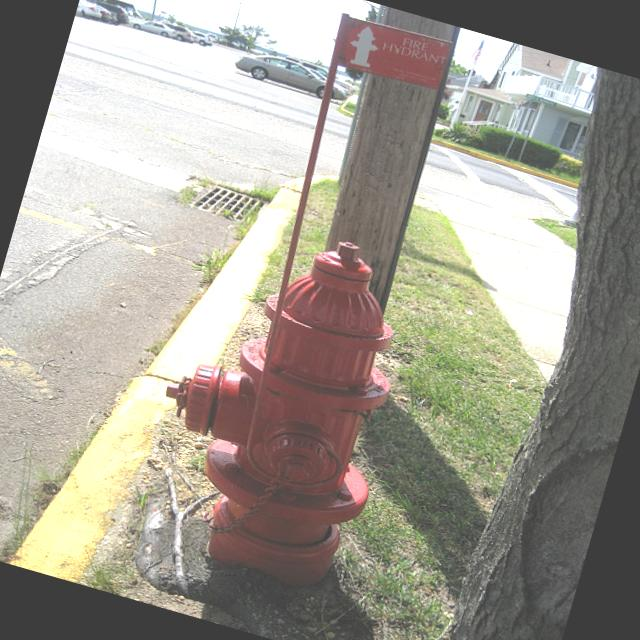Vehicle: (230, 42, 355, 106), (83, 0, 132, 27), (128, 15, 178, 40), (156, 20, 196, 45), (282, 54, 328, 73), (75, 0, 105, 19), (188, 30, 214, 48), (204, 32, 218, 42)
